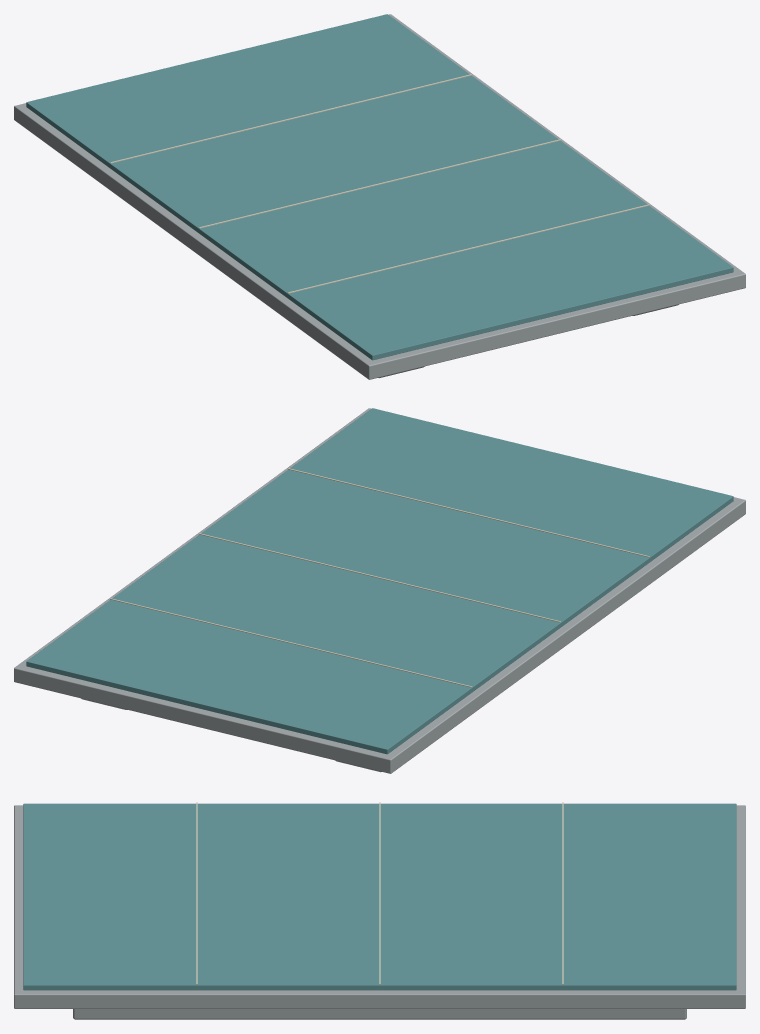
Rendered from solar-thermal-roof-collector.glb.
The picture shows the model from 3 angles, top to bottom: view 1: azimuth 30°, elevation 25°; view 2: azimuth 150°, elevation 25°; view 3: azimuth 270°, elevation 25°; orthographic projection. The views are drawn at different scales.
Visible parts, largest first — view 1: roof-solar-panel; view 2: roof-solar-panel; view 3: roof-solar-panel.
Part boxes in pixels (<box>): roof-solar-panel: <box>14,14,745,379</box>; roof-solar-panel: <box>14,408,745,773</box>; roof-solar-panel: <box>14,802,745,1019</box>.
Size of the model in its own units: 0.95 by 0.12 by 1.55.
